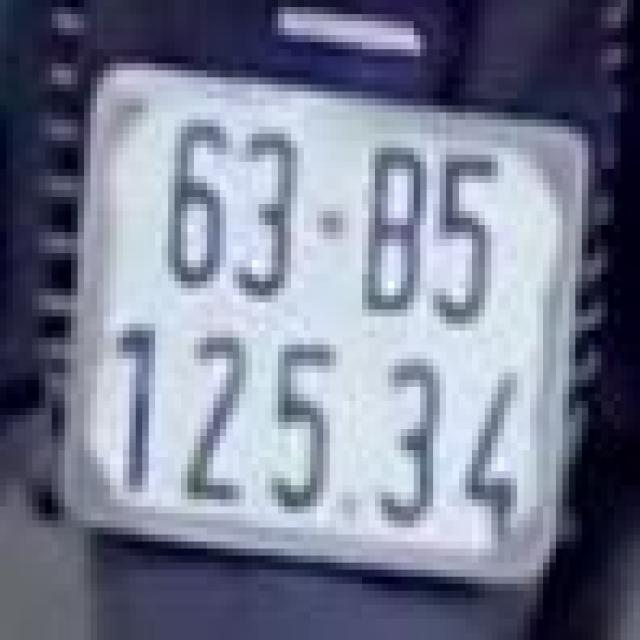1: (110, 316, 155, 492)
2: (188, 324, 245, 514)
3: (381, 355, 446, 524), (240, 130, 298, 306)
4: (466, 355, 524, 545)
5: (272, 338, 342, 514), (436, 151, 501, 320)
6: (168, 116, 226, 292)
B: (366, 144, 424, 313)
